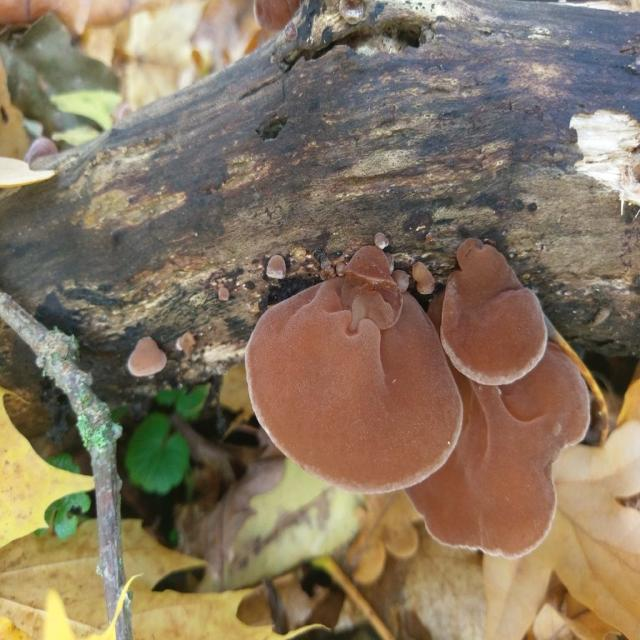Fase Muda: (126, 336, 171, 379), (262, 247, 290, 285)
Matang: (243, 270, 462, 492), (413, 371, 596, 561), (447, 242, 567, 376)
primordia: (411, 260, 438, 299), (176, 334, 198, 352), (376, 232, 394, 251), (216, 286, 234, 303)
